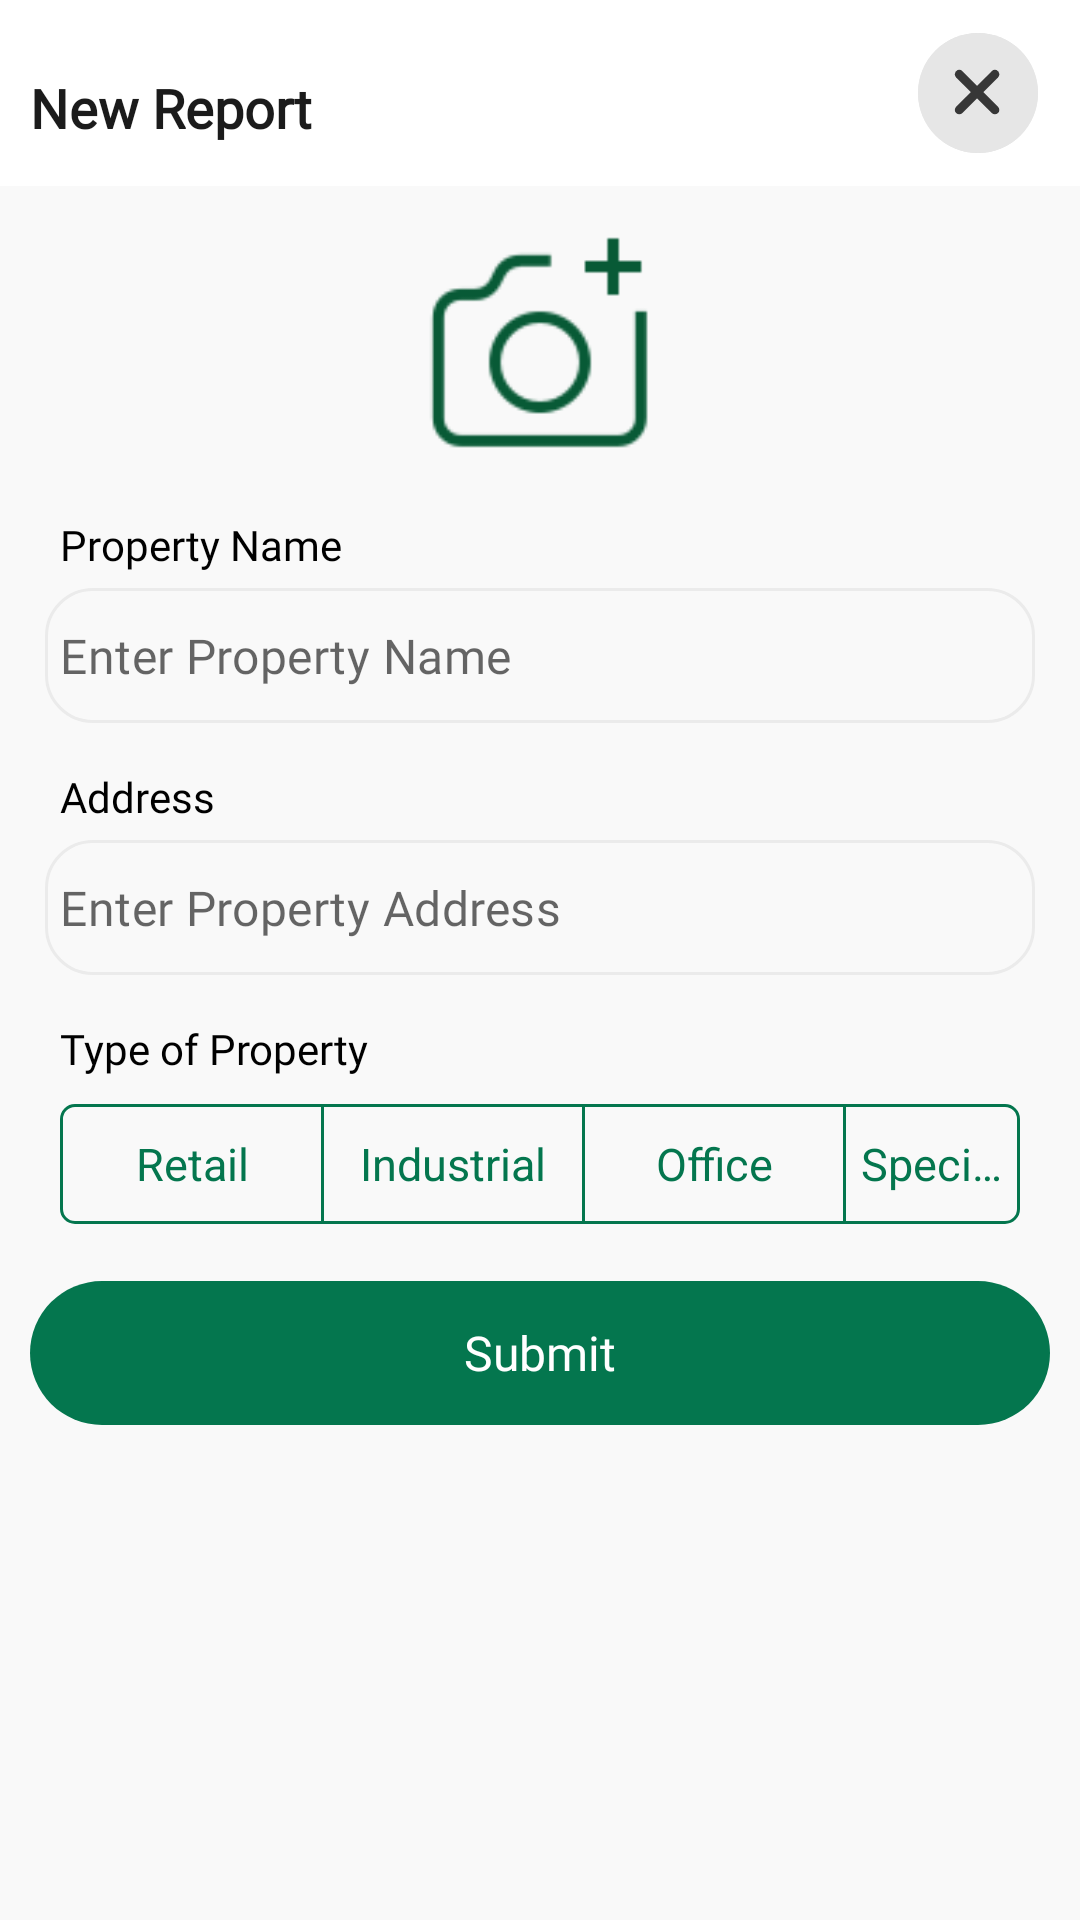

Icon bounding boxes for this 1080 × 1920 phone screenshot, format (x1, y1, x2, y2):
add: (431, 237, 648, 448)
close: (918, 33, 1038, 153)
